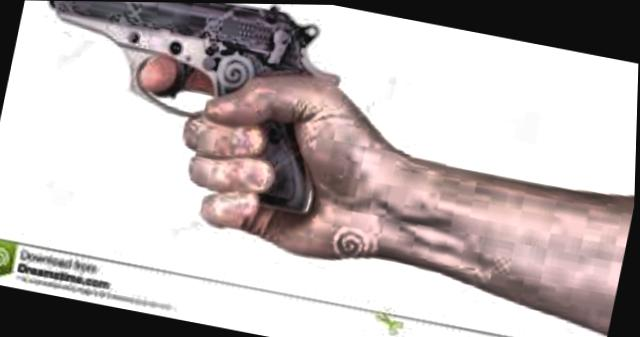pistol: (11, 0, 353, 213)
